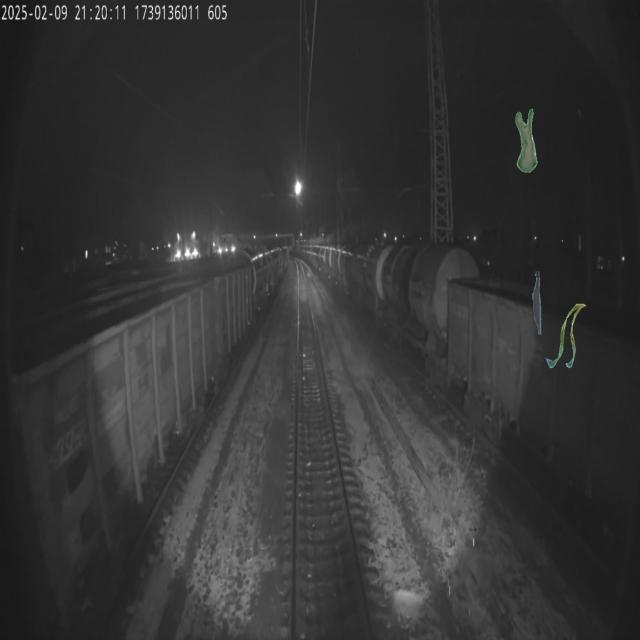floating object: (546, 304, 587, 368), (532, 270, 546, 334)
plastic bag: (515, 109, 538, 172)
